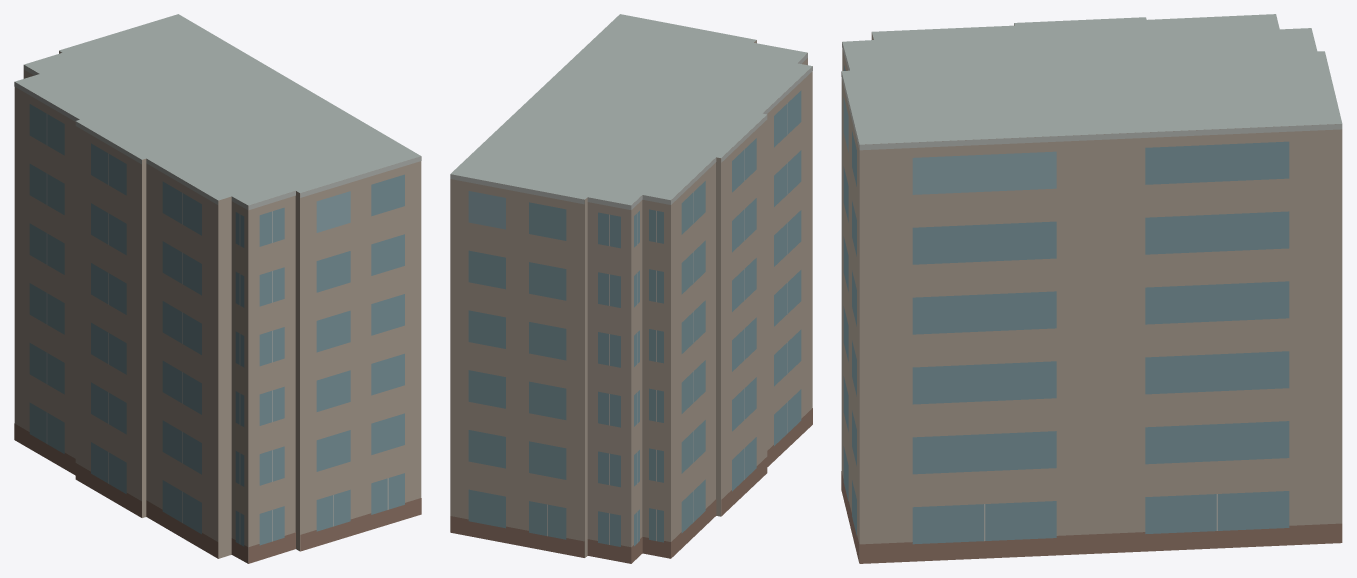
Rendered from survey-upis-32965512.glb.
3 renders of one model, left to right at view 1: azimuth 30°, elevation 25°; view 2: azimuth 150°, elevation 25°; view 3: azimuth 270°, elevation 25°, orthographic. The views are drawn at different scales.
Parts seen in each view (by area): view 1: survey-upis-32965512.tmp; view 2: survey-upis-32965512.tmp; view 3: survey-upis-32965512.tmp.
Boxes of the visible parts, x1=… form: survey-upis-32965512.tmp: x1=14, y1=14, x2=421, y2=563; survey-upis-32965512.tmp: x1=450, y1=14, x2=812, y2=563; survey-upis-32965512.tmp: x1=841, y1=14, x2=1342, y2=563.
Size of the model in its own units: 12.18 by 18.2 by 19.72.
